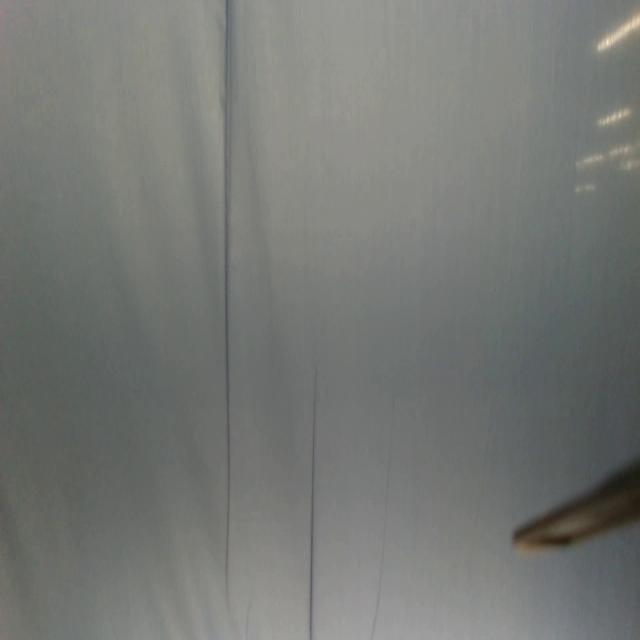crease: (220, 0, 233, 619), (369, 375, 398, 639), (306, 368, 320, 640)
